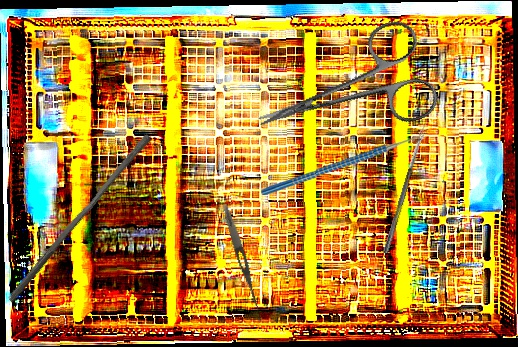Chopper: (259, 122, 431, 196)
Dressing Forceps: (219, 203, 265, 313)
Iris Scissors: (241, 14, 443, 168)
Pusher: (6, 127, 153, 310)
Surgical Spoon: (382, 129, 427, 255)
